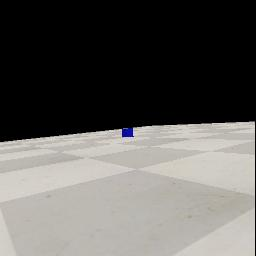box: (122, 128, 134, 137)
